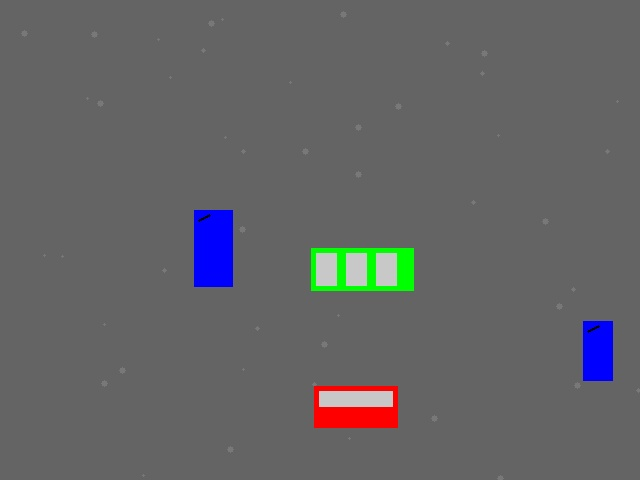bus: (311, 248, 413, 290)
car: (314, 386, 397, 427)
motorcycle: (194, 210, 232, 286), (583, 321, 612, 380)
